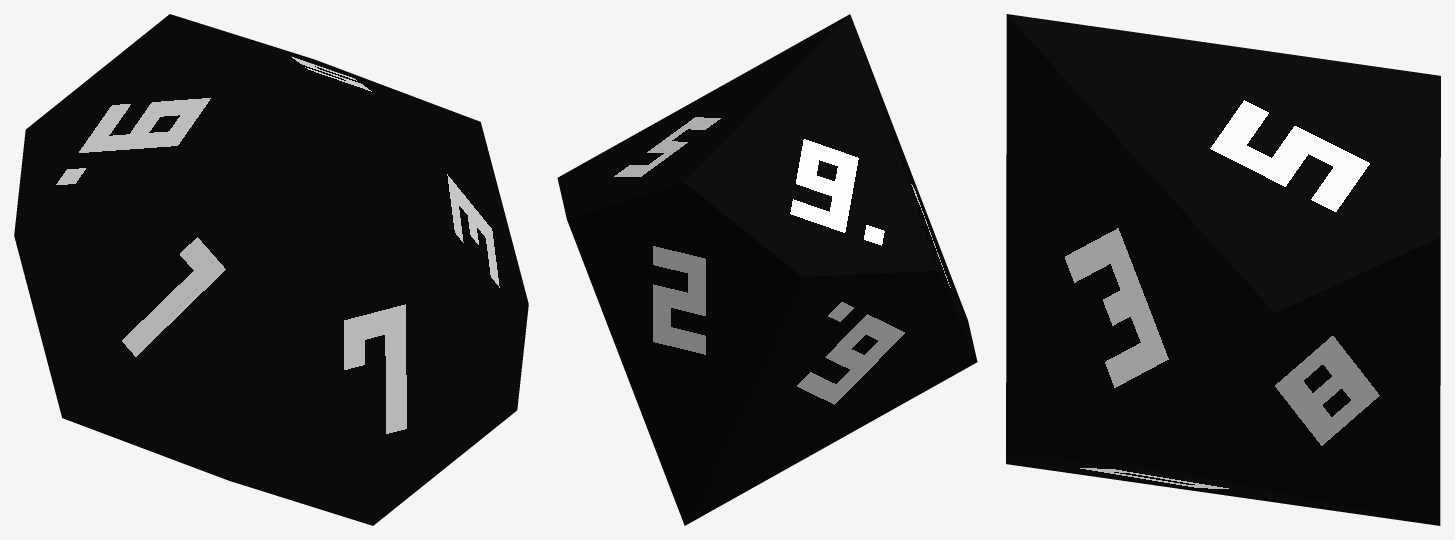
3 renders of one model, left to right at view 1: azimuth 30°, elevation 25°; view 2: azimuth 150°, elevation 25°; view 3: azimuth 270°, elevation 25°, orthographic. The views are drawn at different scales.
Parts seen in each view (by area): view 1: MeshBody1.001; view 2: MeshBody1.001; view 3: MeshBody1.001.
Boxes of the visible parts, x1,y1,x2,y2 form: MeshBody1.001: (14, 14, 528, 525); MeshBody1.001: (557, 14, 977, 525); MeshBody1.001: (1006, 14, 1440, 525).
Bounding box in the file's own units: 0.1942 × 0.1904 × 0.1465.
